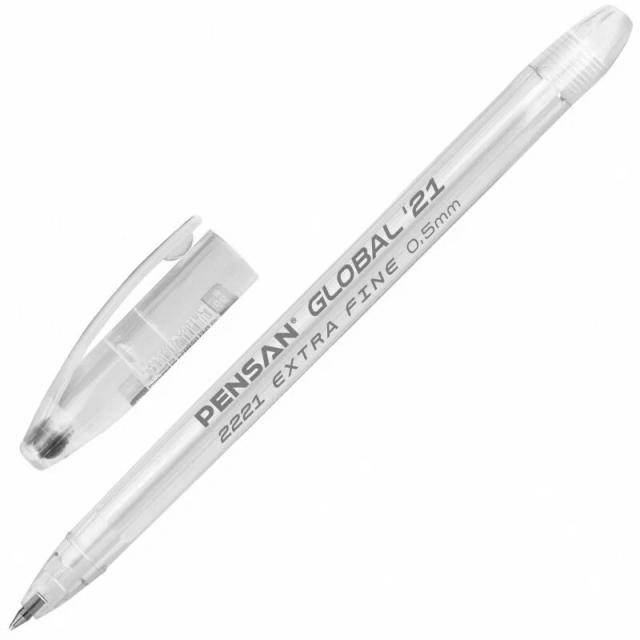pen: (5, 3, 618, 633)
